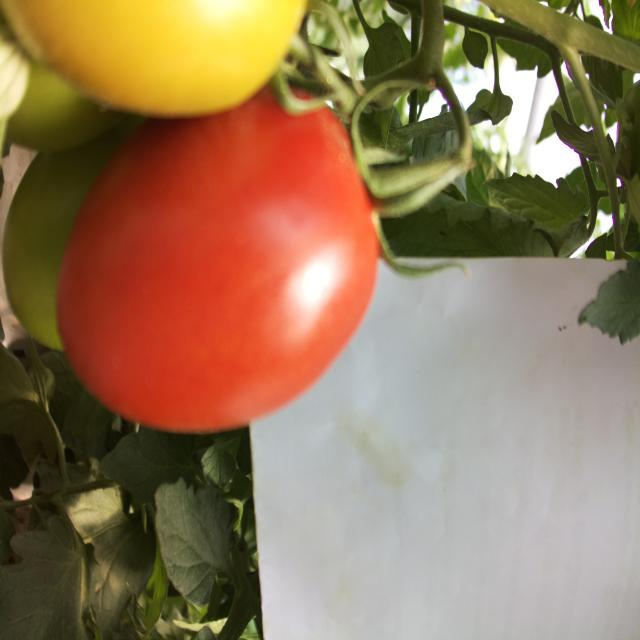kirmizi: (63, 114, 407, 440)
